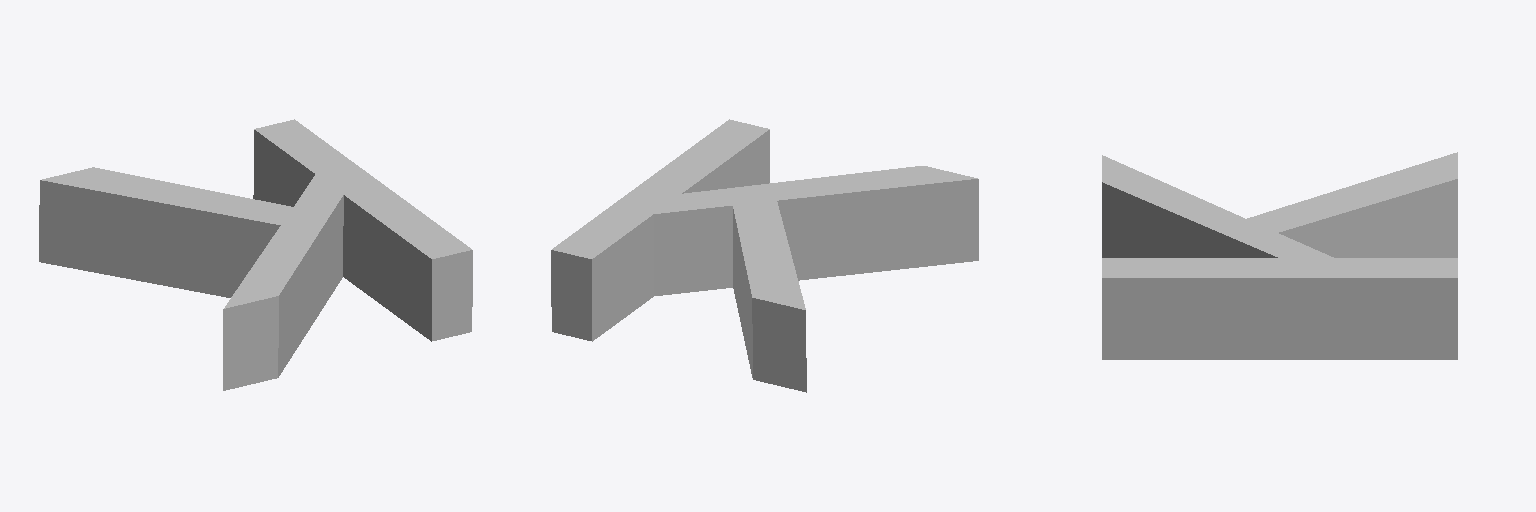
Rendered from original-144.obj.
The picture shows the model from 3 angles: view 1: azimuth 30°, elevation 25°; view 2: azimuth 150°, elevation 25°; view 3: azimuth 270°, elevation 25°; orthographic projection.
Visible parts, largest first — view 1: mesh214/mesh214-geometry#mesh214-geometry; view 2: mesh214/mesh214-geometry#mesh214-geometry; view 3: mesh214/mesh214-geometry#mesh214-geometry.
Boxes of the visible parts, x1,y1,x2,y2 form: mesh214/mesh214-geometry#mesh214-geometry: [39, 119, 472, 390]; mesh214/mesh214-geometry#mesh214-geometry: [551, 119, 978, 392]; mesh214/mesh214-geometry#mesh214-geometry: [1102, 152, 1457, 359].
Size of the model in its own units: 0.0126 by 0.004 by 0.0153.